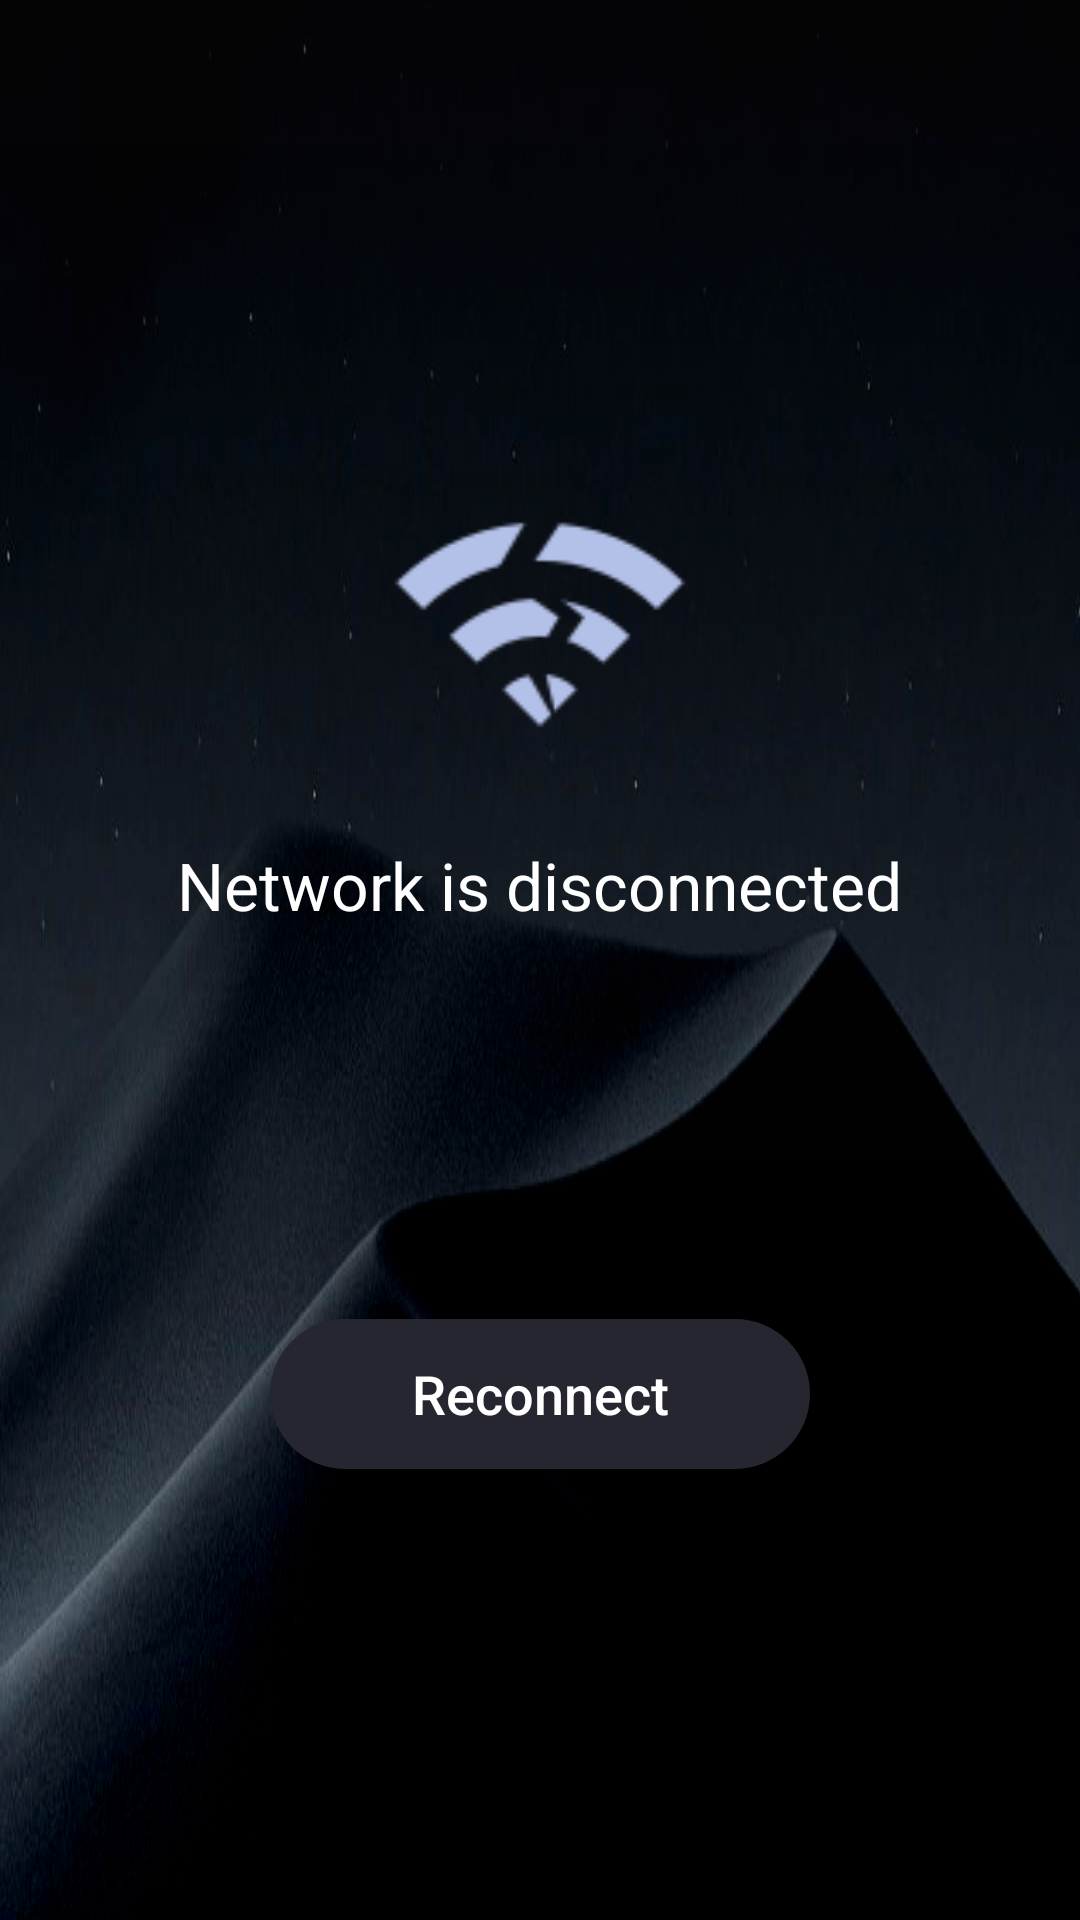

Icon bounding boxes for this 1080 x 1920 phone screenshot, format (x1,y1,x2,y2):
network disconnect: (395,452,685,757)
